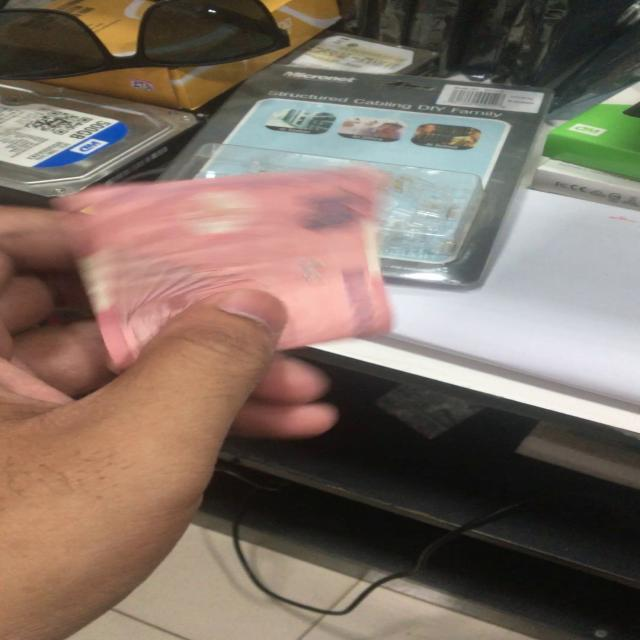Taka: (101, 178, 410, 352)
